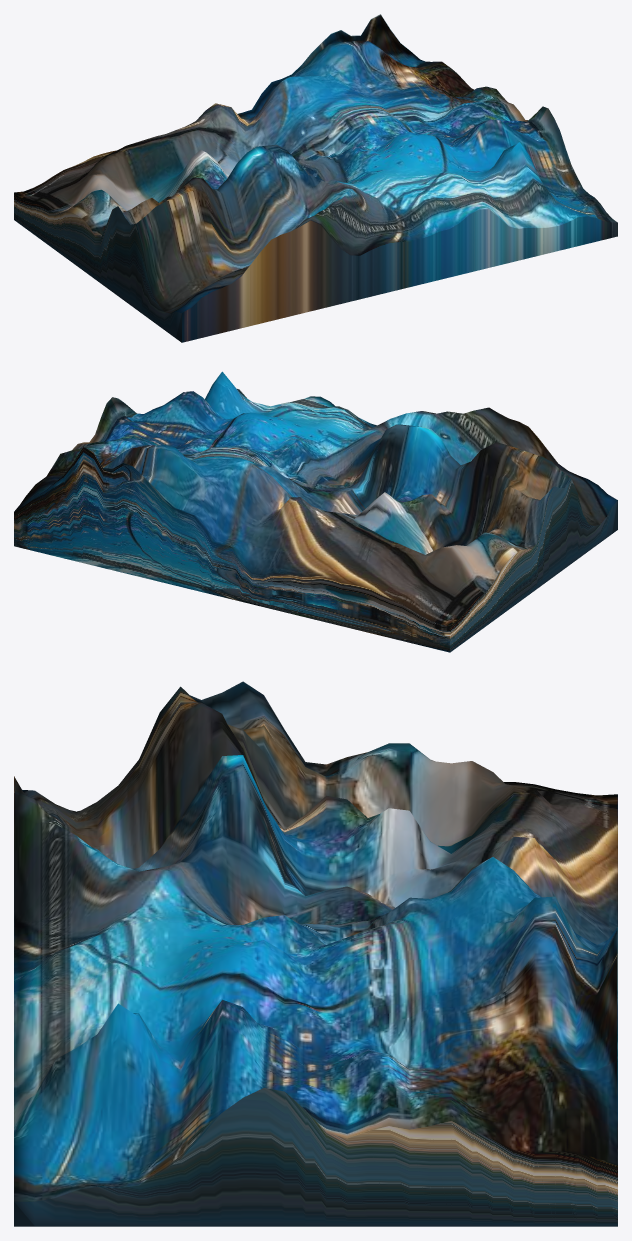
The model's file is INTERIOR_12_Underwater_Villa.glb.
3 views of the same model, one above another, from view 1: azimuth 30°, elevation 25°; view 2: azimuth 150°, elevation 25°; view 3: azimuth 270°, elevation 25° (orthographic). The views are drawn at different scales.
Visible parts, largest first — view 1: INTERIOR_12_Underwater_Villa; view 2: INTERIOR_12_Underwater_Villa; view 3: INTERIOR_12_Underwater_Villa.
Boxes of the visible parts, x1,y1,x2,y2 form: INTERIOR_12_Underwater_Villa: [14, 14, 617, 342]; INTERIOR_12_Underwater_Villa: [14, 371, 617, 652]; INTERIOR_12_Underwater_Villa: [14, 681, 617, 1226].
Bounding box in the file's own units: 2 × 0.51 × 1.33.
1 material, 1 textured.
